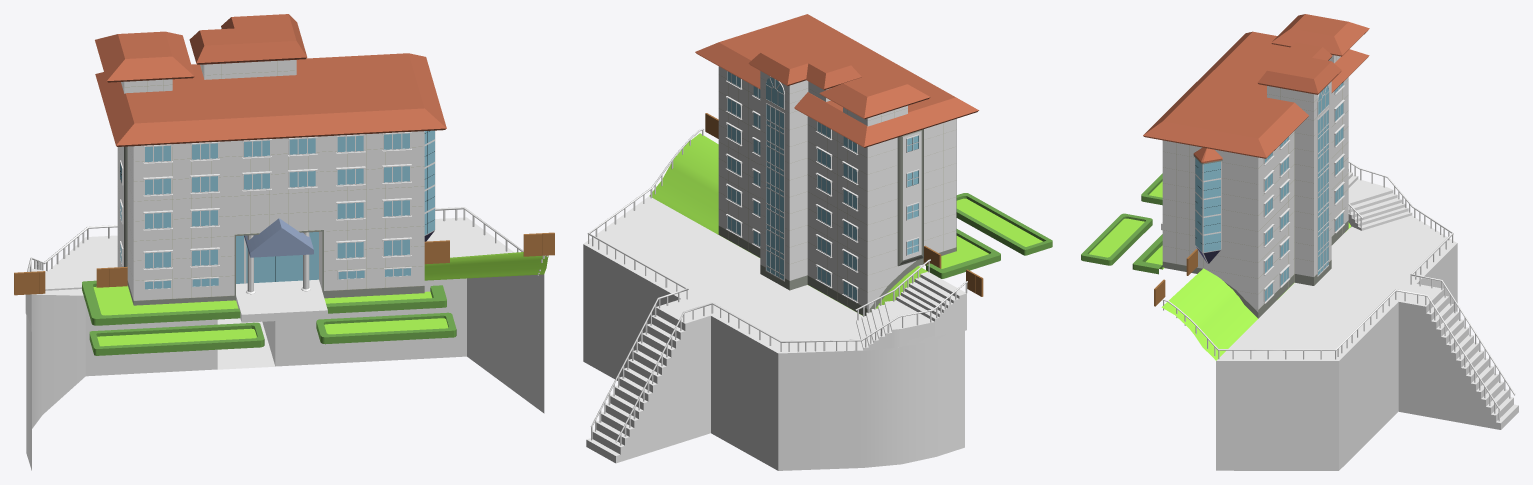
3 renders of one model, left to right at view 1: azimuth 30°, elevation 25°; view 2: azimuth 150°, elevation 25°; view 3: azimuth 270°, elevation 25°, orthographic. The views are drawn at different scales.
Parts seen in each view (by area): view 1: GS_37, GS_01, GS_05, GS_20, GS_04, GS_06, GS_17, GS_16, GS_21, GS_02, GS_25, GS_42 (+15 smaller); view 2: GS_37, GS_35, GS_12, GS_05, GS_03, GS_11, GS_36, GS_42, GS_24, GS_04, GS_32, GS_06 (+10 smaller); view 3: GS_37, GS_05, GS_35, GS_09, GS_12, GS_11, GS_42, GS_13, GS_06, GS_04, GS_36, GS_24 (+8 smaller).
Boxes of the visible parts, x1,y1,x2,y2 form: GS_37: (26,217,544,470); GS_01: (133,131,424,305); GS_05: (95,53,446,146); GS_20: (144,133,410,269); GS_04: (95,31,194,93); GS_06: (189,14,307,64); GS_17: (89,322,264,355); GS_16: (82,280,240,325); GS_21: (316,312,456,344); GS_02: (236,279,327,322); GS_25: (143,132,411,270); GS_42: (424,252,548,280); GS_37: (583,196,964,470); GS_35: (586,299,710,463); GS_12: (718,66,867,315); GS_05: (695,14,978,147); GS_03: (867,119,956,312); GS_11: (760,71,830,290); GS_36: (856,271,966,350); GS_42: (649,133,927,315); GS_24: (727,71,857,301); GS_04: (819,70,930,126); GS_32: (765,103,784,281); GS_06: (748,39,861,89); GS_37: (1216,215,1457,470); GS_05: (1143,31,1369,158); GS_35: (1398,284,1518,429); GS_09: (1162,140,1258,318); GS_12: (1258,77,1348,318); GS_11: (1267,81,1331,285); GS_42: (1161,222,1351,360); GS_13: (1193,147,1222,263); GS_06: (1257,42,1341,94); GS_04: (1271,14,1369,63); GS_36: (1348,169,1412,230); GS_24: (1263,82,1343,302).
Bounding box in the file's own units: 5.18 × 4.29 × 5.36.
